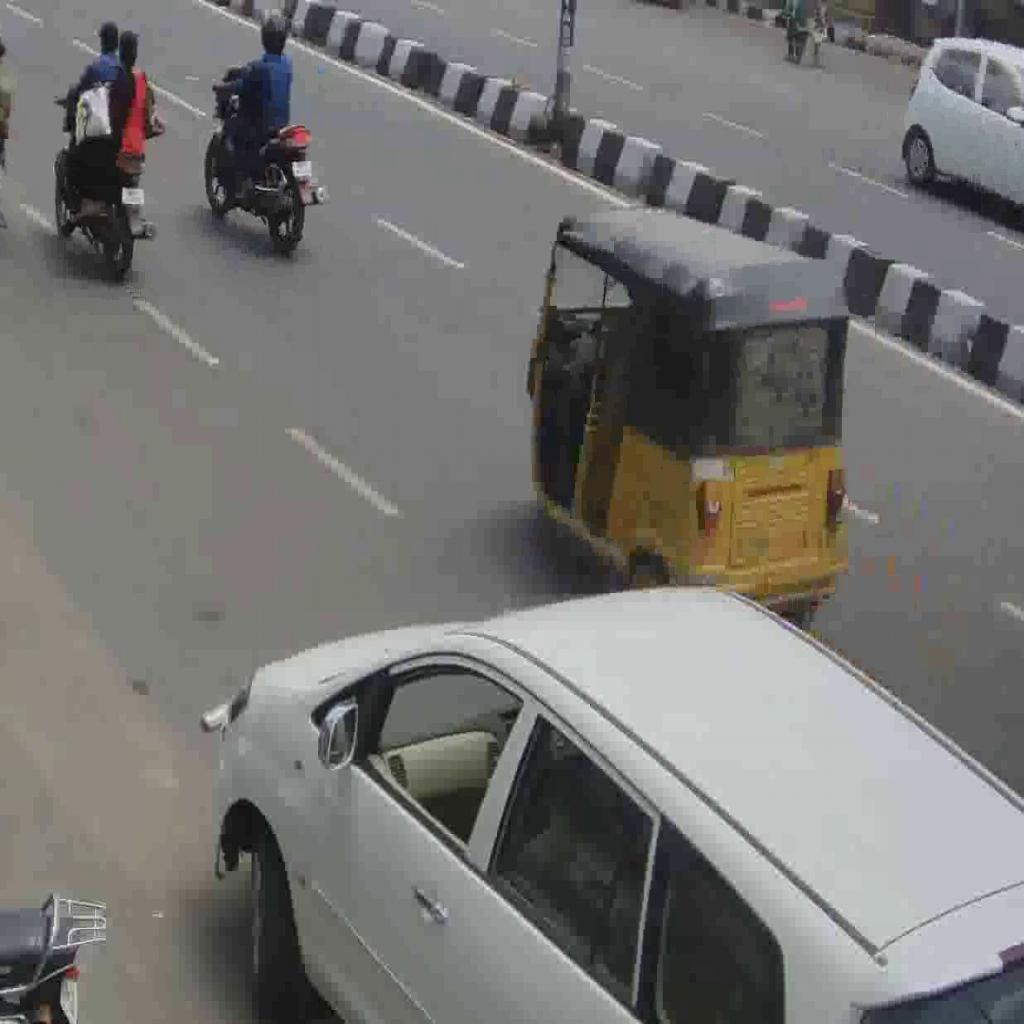bike: (203, 63, 330, 256), (52, 82, 159, 278)
helmet: (260, 12, 289, 57)
lisc: (122, 186, 144, 204), (292, 160, 312, 178)
no_helmet: (119, 28, 139, 69), (98, 19, 120, 55)
rider: (67, 28, 153, 222), (211, 11, 296, 203), (53, 18, 120, 213)
